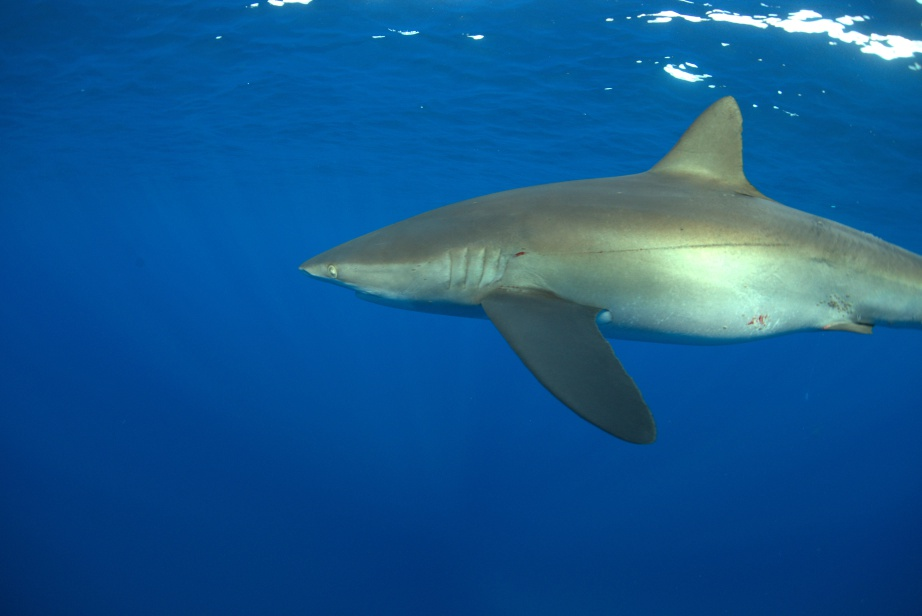Sedoso: (285, 89, 922, 457)
